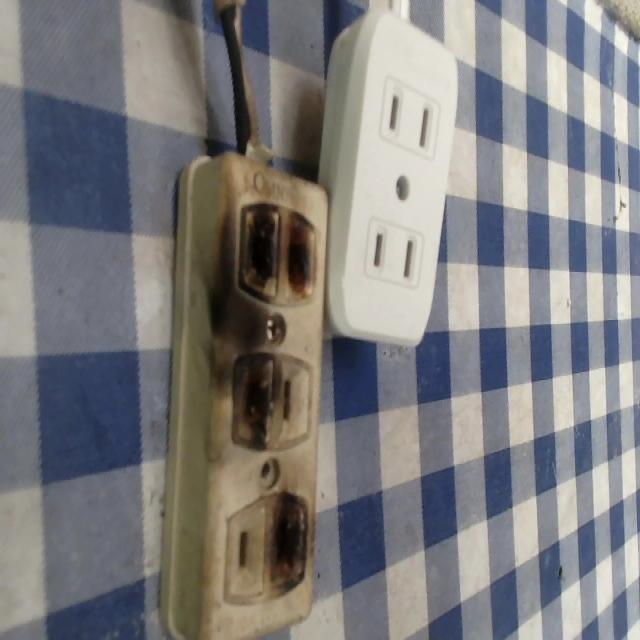-: (230, 199, 326, 316), (226, 347, 280, 442), (264, 488, 308, 583)
